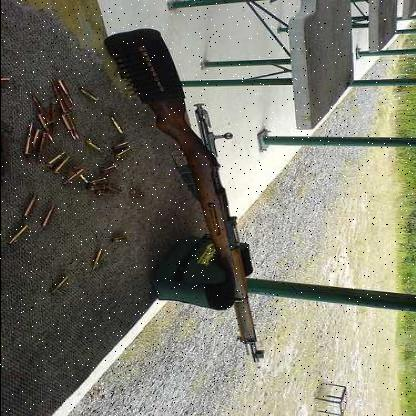rifle: (98, 9, 286, 365)
